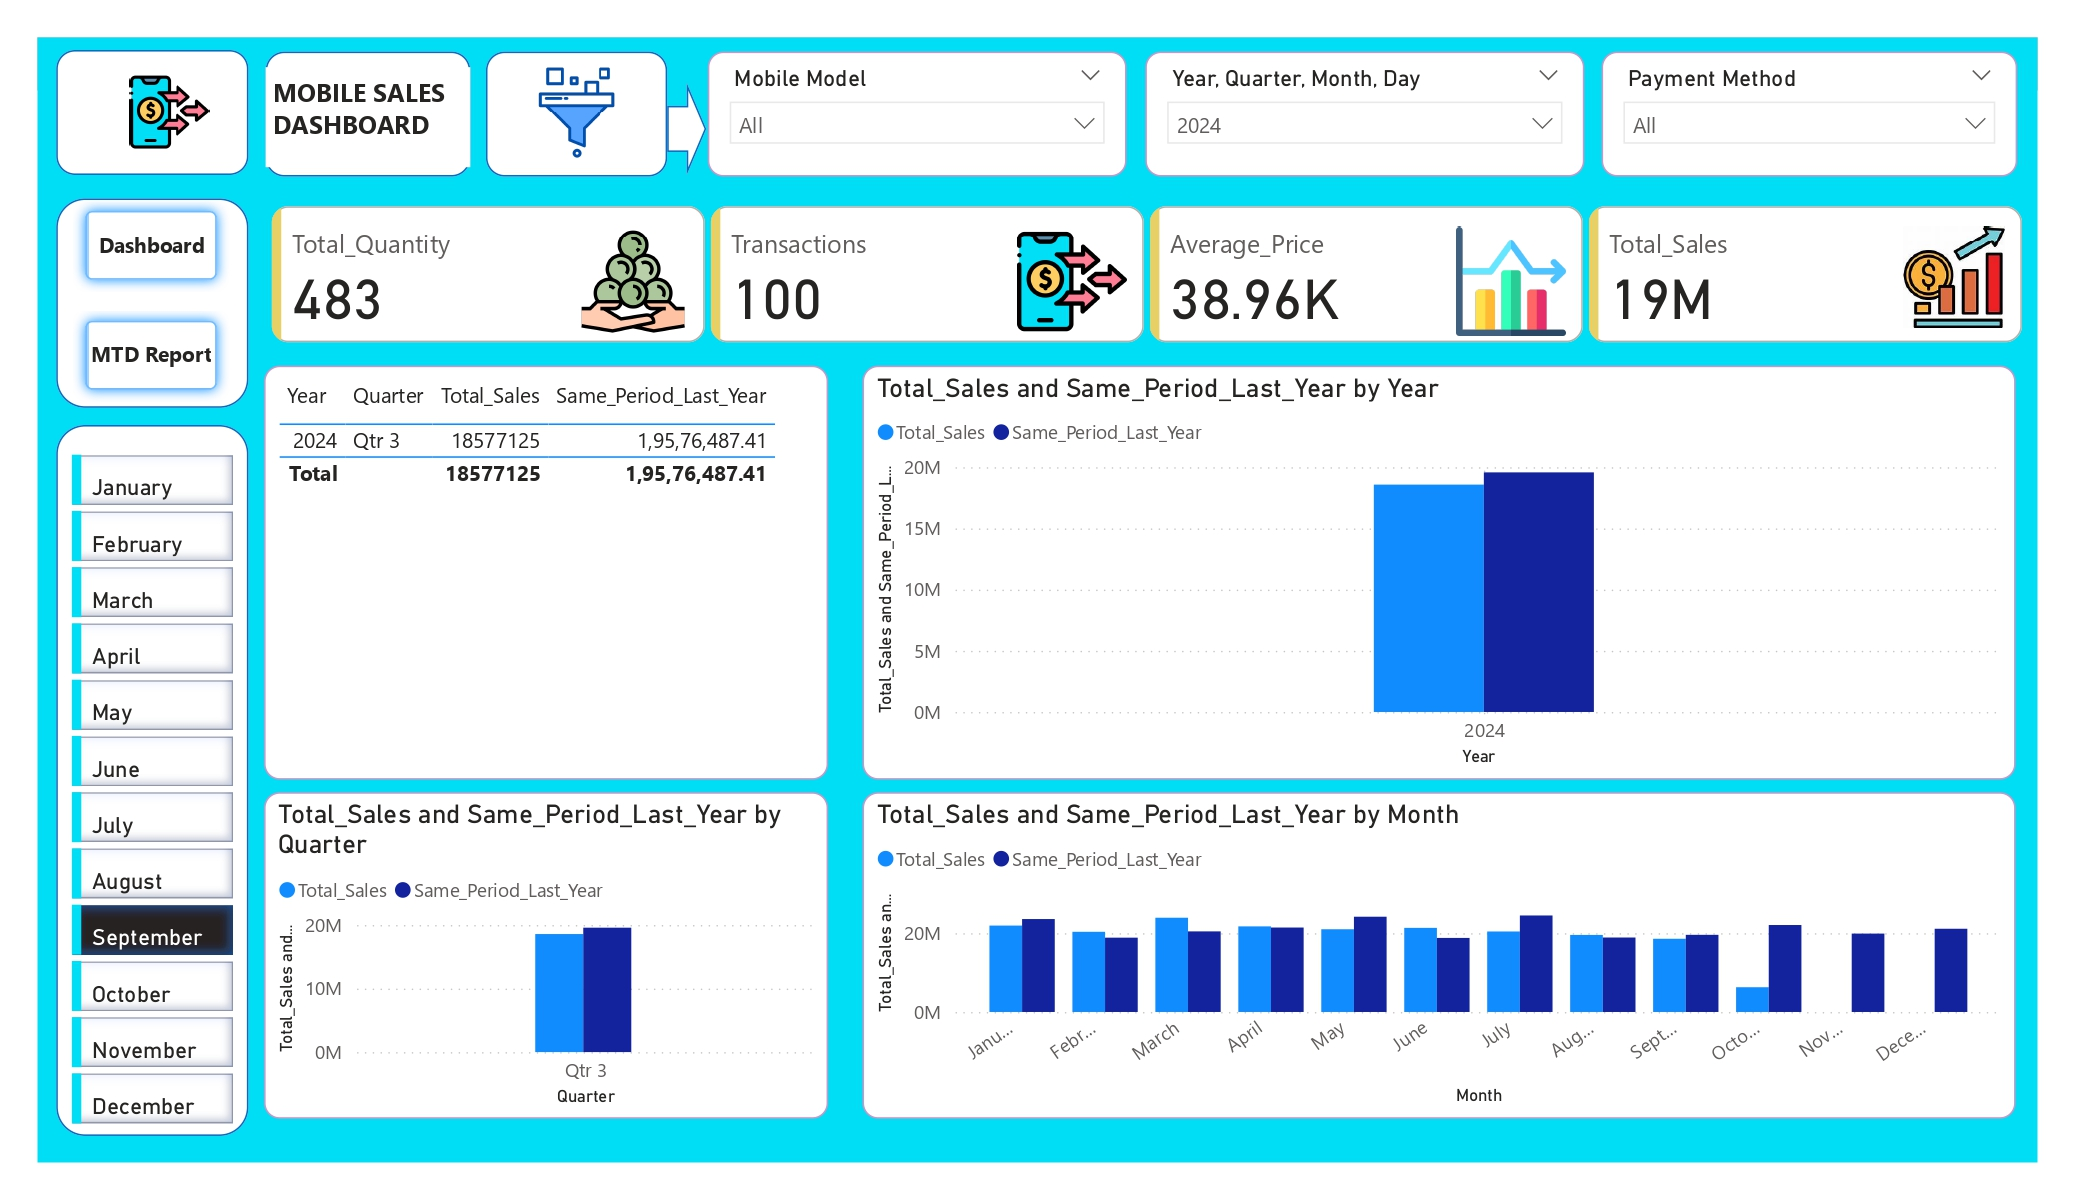

The page's visual inventory and layout, read from the dashboard file:
{"tool":"powerbi","page":{"name":"Same Period Last Year","canvas":[1280,720],"ordinal":2},"visuals":[{"type":"shape","box":[11.7,8.3,123.3,80],"z":0},{"type":"image","box":[0,16.7,168.3,61.7],"z":1000},{"type":"shape","box":[11.7,103.3,123.3,133.3],"z":2000},{"type":"cardVisual","fields":{"Data":["Sales_Data.Total_Quantity","Sales_Data.Transactions","Sales_Data.Average_Price","Sales_Data.Total_Sales"]},"box":[145.4,103,1129.6,96.9],"z":3000},{"type":"slicer","fields":{"Values":["Sales_Data.Mobile Model"]},"box":[428.6,8.6,268.6,80],"z":4000},{"type":"slicer","fields":{"Values":["Custom_Calendar.Date.Variation.Date Hierarchy.Year","Custom_Calendar.Date.Variation.Date Hierarchy.Quarter","Custom_Calendar.Date.Variation.Date Hierarchy.Month","Custom_Calendar.Date.Variation.Date Hierarchy.Day"]},"box":[708.6,8.6,281.4,80],"z":5000},{"type":"slicer","fields":{"Values":["Sales_Data.Payment Method"]},"box":[1001.4,8.6,265.7,80],"z":6000},{"type":"shape","box":[287.1,8.6,115.7,80],"z":7000},{"type":"image","box":[287.1,12.9,115.7,70],"z":8000},{"type":"shape","box":[403.3,29.4,24.4,58.9],"z":9000},{"type":"shape","box":[145.7,8.6,131.4,80],"z":10000},{"type":"textbox","box":[145.7,18.6,131.4,64.3],"z":11000},{"type":"shape","box":[11.7,248.3,123.3,455],"z":13000},{"type":"advancedSlicerVisual","fields":{"Values":["Custom_Calendar.Date.Variation.Date Hierarchy.Month"]},"box":[16.7,261.7,113.3,441.7],"z":14000},{"type":"tableEx","fields":{"Values":["Custom_Calendar.Date.Variation.Date Hierarchy.Year","Custom_Calendar.Date.Variation.Date Hierarchy.Quarter","Sales_Data.Total_Sales","Custom_Calendar.Same_Period_Last_Year"]},"box":[145.4,210.5,360.4,265],"z":14001},{"type":"clusteredColumnChart","fields":{"Category":["Custom_Calendar.Date.Variation.Date Hierarchy.Year","Custom_Calendar.Date.Variation.Date Hierarchy.Quarter"],"Y":["Sales_Data.Total_Sales","Custom_Calendar.Same_Period_Last_Year"]},"box":[528.5,210.5,737.4,265],"z":14002},{"type":"clusteredColumnChart","fields":{"Y":["Sales_Data.Total_Sales","Custom_Calendar.Same_Period_Last_Year"],"Category":["Custom_Calendar.Date.Variation.Date Hierarchy.Year","Custom_Calendar.Date.Variation.Date Hierarchy.Quarter","Custom_Calendar.Date.Variation.Date Hierarchy.Month","Custom_Calendar.Date.Variation.Date Hierarchy.Day"]},"box":[528.5,483,737.4,209],"z":14003},{"type":"clusteredColumnChart","fields":{"Y":["Sales_Data.Total_Sales","Custom_Calendar.Same_Period_Last_Year"],"Category":["Custom_Calendar.Date.Variation.Date Hierarchy.Year","Custom_Calendar.Date.Variation.Date Hierarchy.Quarter","Custom_Calendar.Date.Variation.Date Hierarchy.Month","Custom_Calendar.Date.Variation.Date Hierarchy.Day"]},"box":[145.4,483,360.4,209],"z":14004},{"type":"pageNavigator","box":[22.7,103,99.9,130.2],"z":14005}]}

Visuals, with their boxes on the page's 1280x720 design canvas (x1, y1, x2, y2). These are canvas units, not pixel positions in the 2075x1200 screenshot, which may show the page scaled, cropped or inside an application window:
shape: region(12, 8, 135, 88)
image: region(0, 17, 168, 78)
shape: region(12, 103, 135, 237)
cardVisual - Sales_Data.Total_Quantity x Sales_Data.Transactions: region(145, 103, 1275, 200)
slicer - Sales_Data.Mobile Model: region(429, 9, 697, 89)
slicer - Custom_Calendar.Date.Variation.Date Hierarchy.Year x Custom_Calendar.Date.Variation.Date Hierarchy.Quarter: region(709, 9, 990, 89)
slicer - Sales_Data.Payment Method: region(1001, 9, 1267, 89)
shape: region(287, 9, 403, 89)
image: region(287, 13, 403, 83)
shape: region(403, 29, 428, 88)
shape: region(146, 9, 277, 89)
textbox: region(146, 19, 277, 83)
shape: region(12, 248, 135, 703)
advancedSlicerVisual - Custom_Calendar.Date.Variation.Date Hierarchy.Month: region(17, 262, 130, 703)
tableEx - Custom_Calendar.Date.Variation.Date Hierarchy.Year x Custom_Calendar.Date.Variation.Date Hierarchy.Quarter: region(145, 210, 506, 476)
clusteredColumnChart - Custom_Calendar.Date.Variation.Date Hierarchy.Year x Custom_Calendar.Date.Variation.Date Hierarchy.Quarter: region(528, 210, 1266, 476)
clusteredColumnChart - Sales_Data.Total_Sales x Custom_Calendar.Same_Period_Last_Year: region(528, 483, 1266, 692)
clusteredColumnChart - Sales_Data.Total_Sales x Custom_Calendar.Same_Period_Last_Year: region(145, 483, 506, 692)
pageNavigator: region(23, 103, 123, 233)
